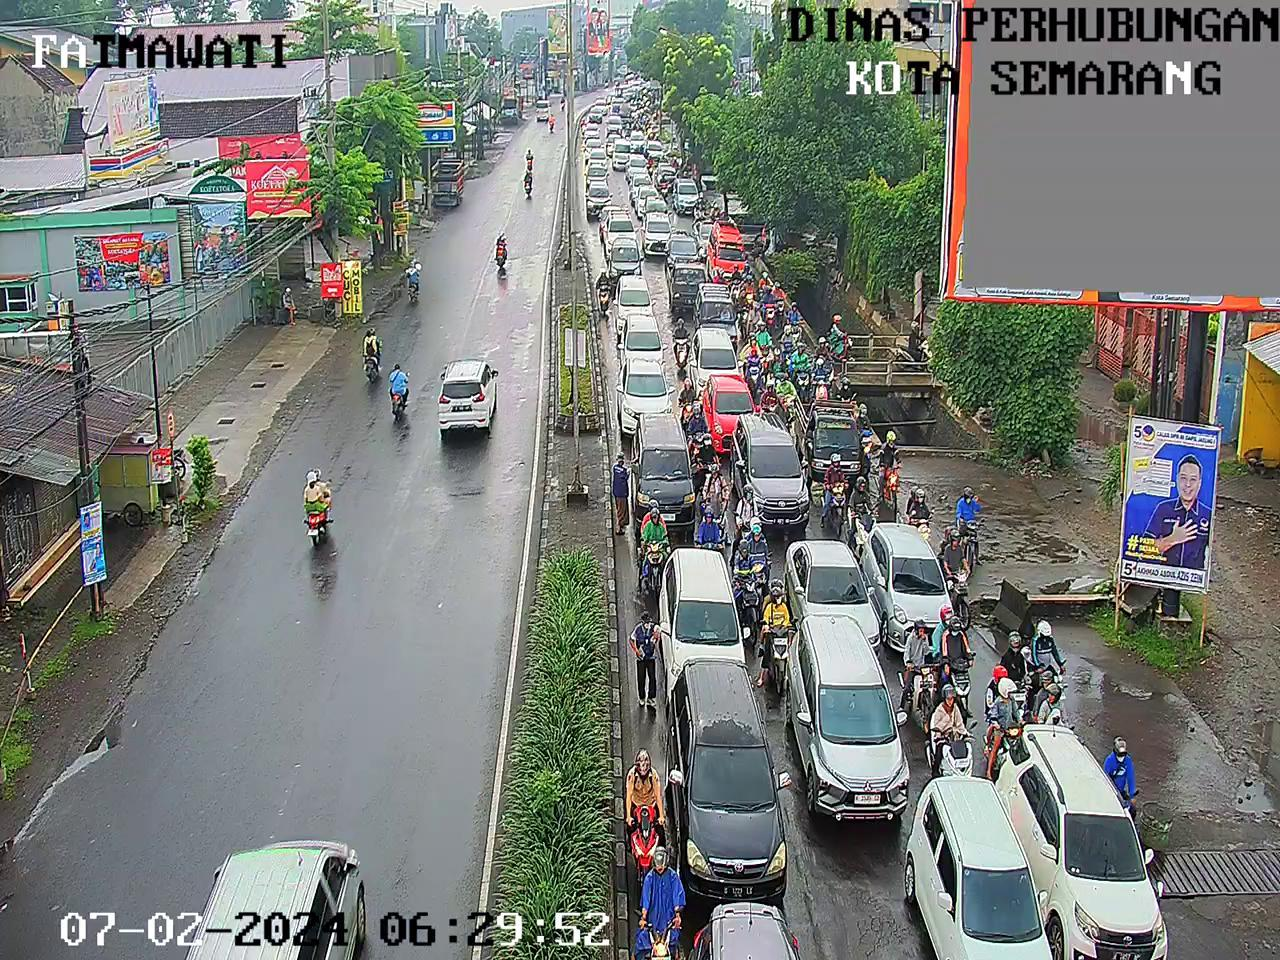bus: (700, 221, 771, 302)
car: (1008, 722, 1164, 960), (675, 659, 799, 899), (900, 770, 1045, 960), (787, 622, 917, 833), (641, 533, 761, 691), (658, 538, 759, 705), (770, 521, 860, 692), (879, 522, 965, 652), (630, 416, 707, 544), (738, 412, 820, 527), (613, 359, 693, 449), (696, 373, 771, 466), (696, 907, 795, 960), (690, 320, 753, 400), (692, 266, 741, 354), (615, 317, 674, 377), (617, 266, 667, 335), (605, 206, 646, 273), (608, 231, 653, 292), (644, 211, 677, 266), (676, 260, 705, 323), (672, 229, 705, 281), (628, 171, 664, 205), (675, 183, 706, 221), (587, 185, 613, 222), (584, 156, 610, 194), (632, 187, 668, 212), (640, 199, 673, 226), (611, 137, 633, 173), (625, 156, 651, 181), (649, 138, 670, 166), (601, 129, 623, 155), (600, 110, 622, 135), (581, 124, 604, 146), (584, 138, 604, 162), (585, 107, 607, 128), (612, 98, 628, 121), (593, 94, 610, 114), (627, 128, 642, 148), (624, 89, 639, 107), (623, 82, 635, 100)
motorcycle: (932, 603, 982, 706), (721, 536, 761, 657), (929, 683, 980, 772), (765, 578, 801, 695), (936, 521, 980, 619), (1096, 729, 1141, 822), (905, 615, 939, 727), (989, 664, 1027, 762), (642, 503, 679, 597), (997, 632, 1040, 712), (956, 485, 994, 564), (746, 520, 778, 611), (1030, 624, 1066, 702), (699, 461, 737, 527), (1042, 673, 1073, 750), (852, 476, 880, 557), (878, 429, 904, 514), (819, 460, 848, 532), (775, 371, 805, 432), (906, 485, 936, 543), (743, 332, 769, 389), (751, 322, 778, 375), (671, 376, 699, 428), (671, 319, 697, 373), (693, 432, 721, 482), (770, 282, 795, 332), (694, 513, 727, 548), (779, 322, 798, 365), (689, 401, 711, 440), (744, 298, 761, 344), (759, 379, 779, 416), (789, 301, 803, 351), (762, 288, 779, 329), (759, 268, 778, 302), (730, 264, 743, 307), (749, 308, 766, 336), (741, 274, 756, 303), (710, 201, 726, 226), (657, 173, 675, 194), (682, 158, 696, 182), (693, 190, 703, 222), (795, 340, 810, 360), (740, 259, 753, 282), (643, 151, 654, 176), (668, 156, 680, 171), (642, 91, 654, 104), (645, 104, 655, 116), (646, 113, 653, 129), (653, 128, 665, 135), (634, 117, 643, 125), (654, 121, 663, 127), (647, 131, 654, 138), (645, 118, 651, 122)
